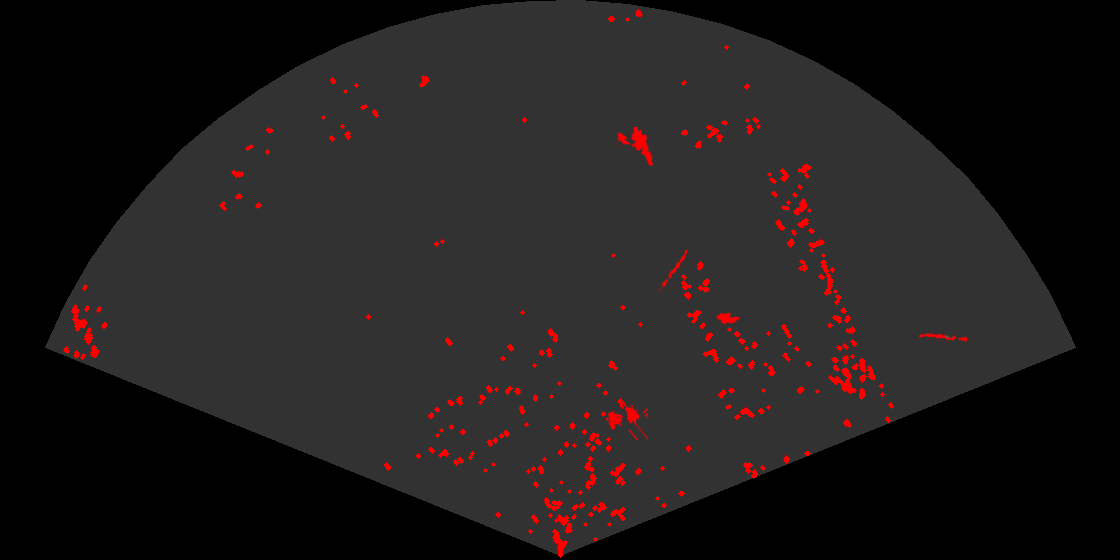AUV: (715, 311, 742, 326), (613, 131, 632, 147)
cage: (606, 402, 648, 440)
chain: (657, 248, 689, 292), (918, 331, 969, 343)
frogman: (629, 127, 655, 166)
